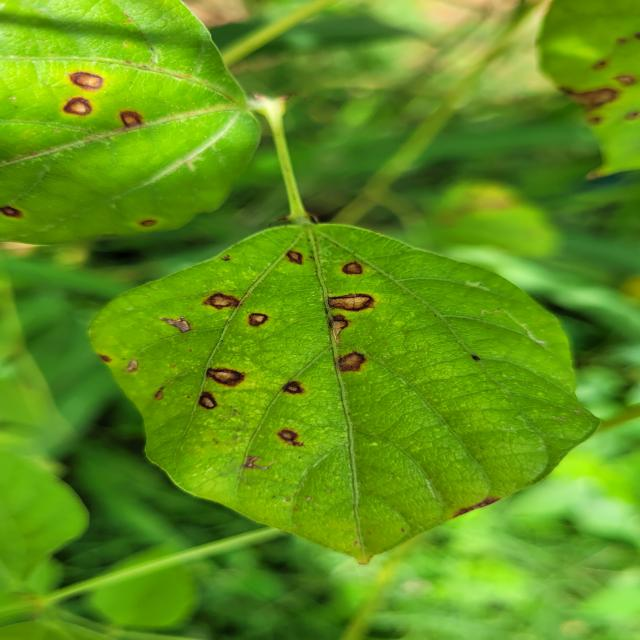Dolicos bean_cercospora leaf spot: (96, 218, 594, 570), (0, 0, 268, 246), (531, 0, 640, 203)
